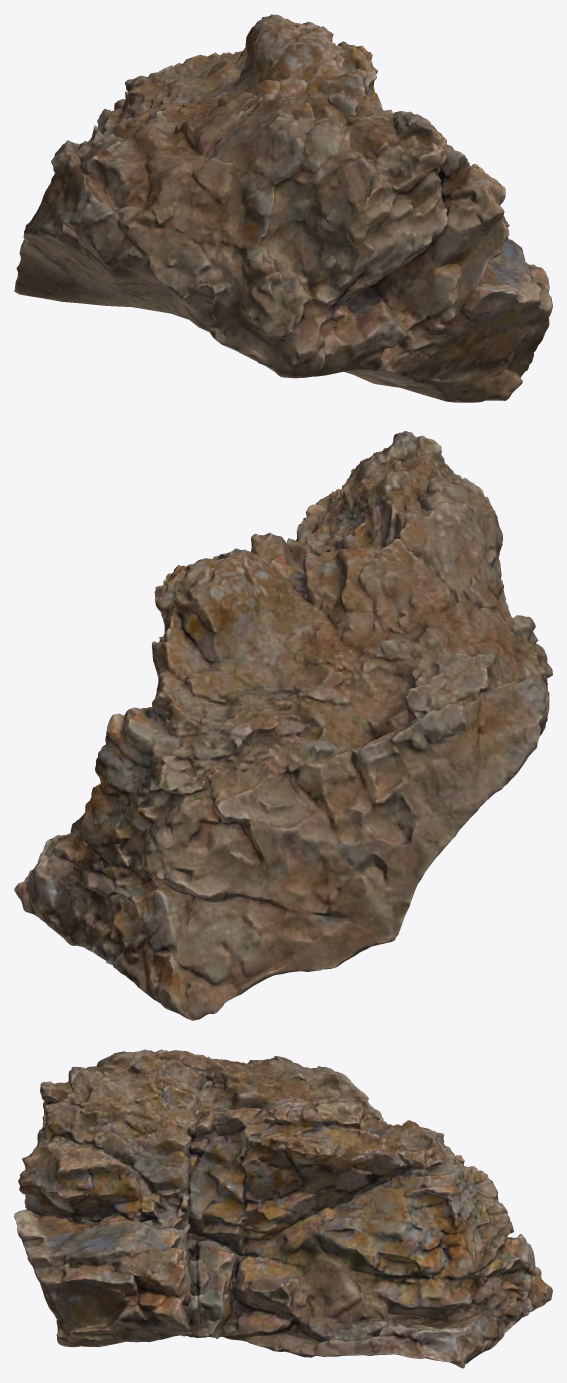
Rendered from boulder_01.glb.
3 renders of one model, top to bottom at view 1: azimuth 30°, elevation 25°; view 2: azimuth 150°, elevation 25°; view 3: azimuth 270°, elevation 25°, orthographic. The views are drawn at different scales.
Visible parts, largest first — view 1: boulder_01; view 2: boulder_01; view 3: boulder_01.
Boxes of the visible parts, x1,y1,x2,y2 form: boulder_01: [14, 14, 552, 402]; boulder_01: [14, 431, 552, 1020]; boulder_01: [14, 1049, 552, 1368].
Size of the model in its own units: 1.27 by 1 by 1.83.
1 material, 1 textured.
